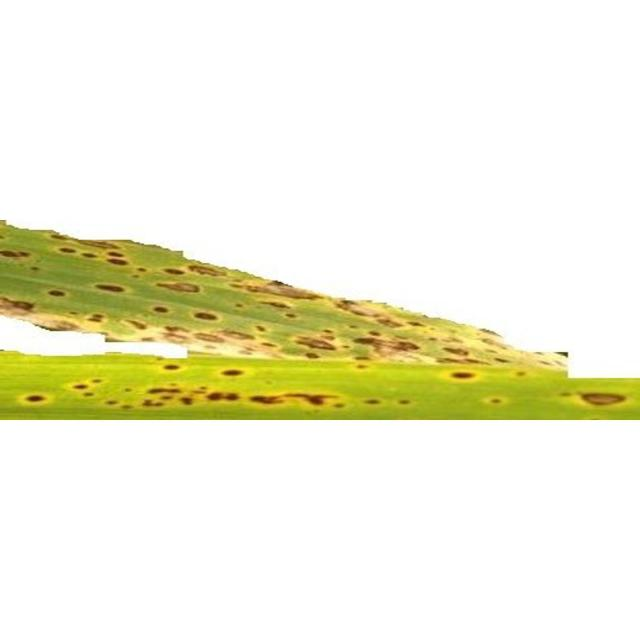Brown spot: (2, 167, 640, 472)
